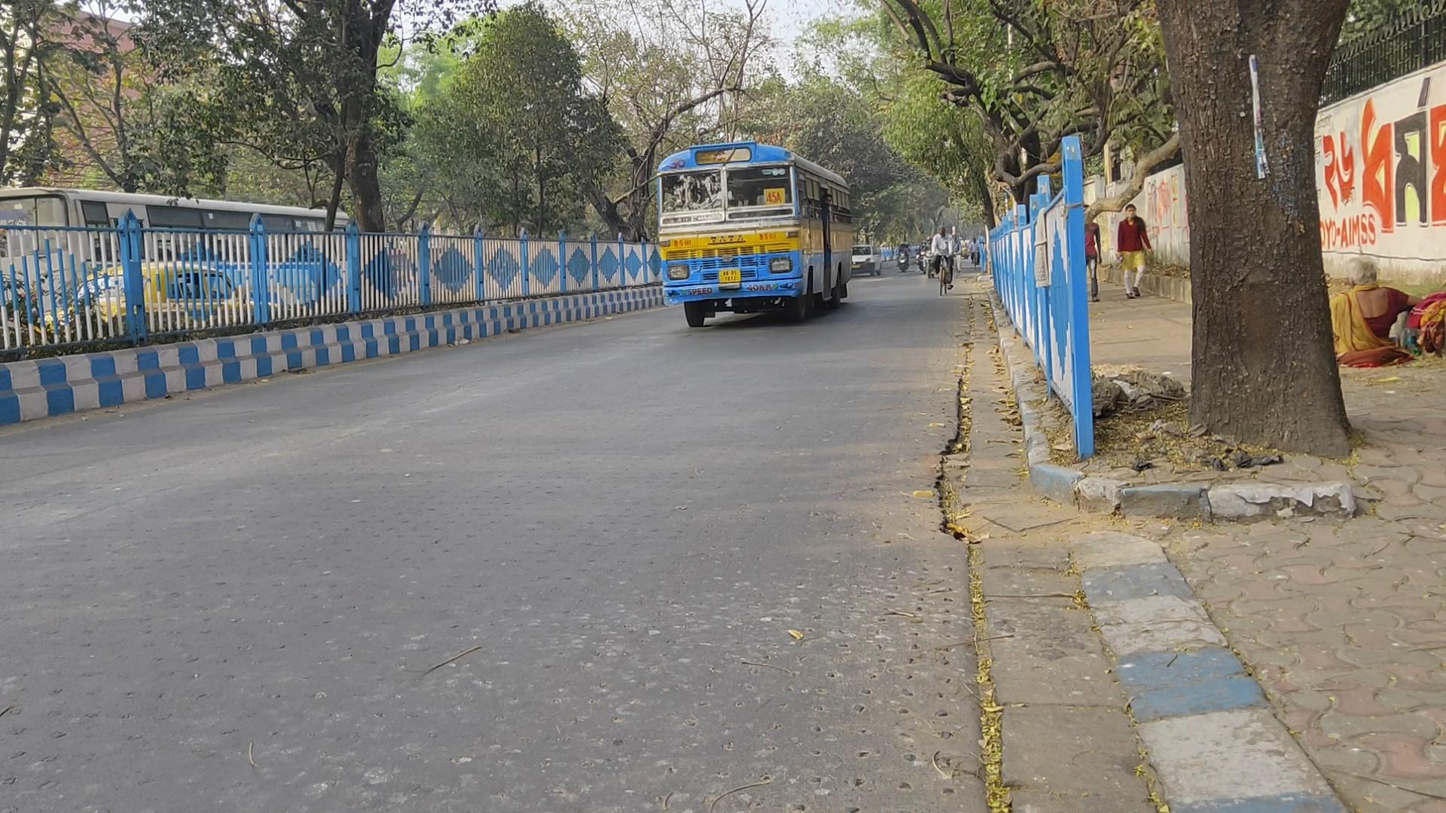Bus: (657, 145, 853, 327)
bike: (931, 225, 956, 296), (895, 242, 911, 273), (914, 240, 928, 272)
car: (852, 244, 884, 278)
